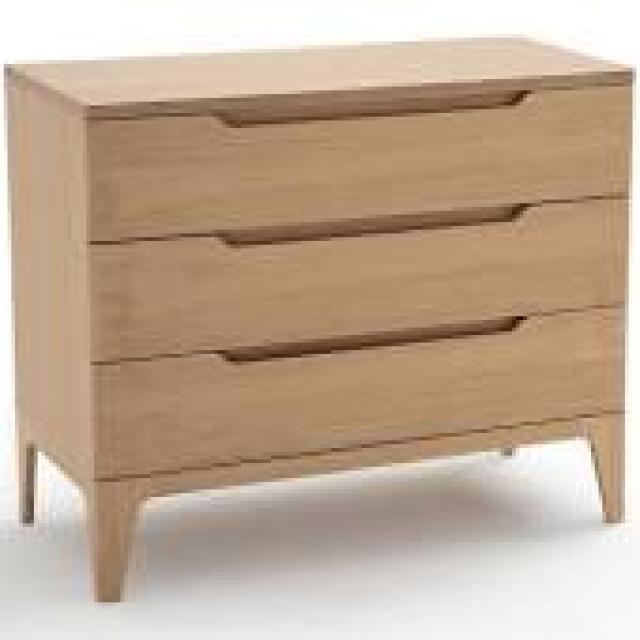mobile-phone: (6, 32, 636, 609)
